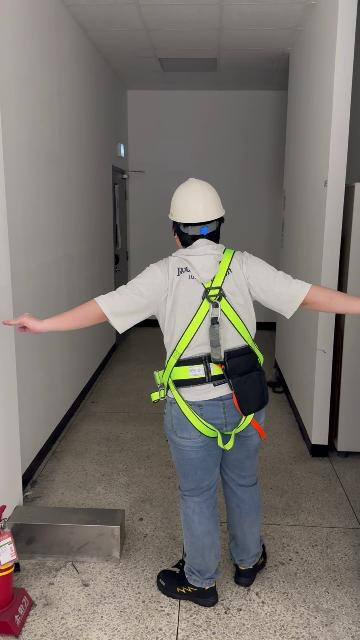helmet_worn: (167, 176, 226, 224)
shoe_worn: (156, 559, 218, 607), (233, 543, 266, 588)
vest_worn: (147, 250, 265, 442)
